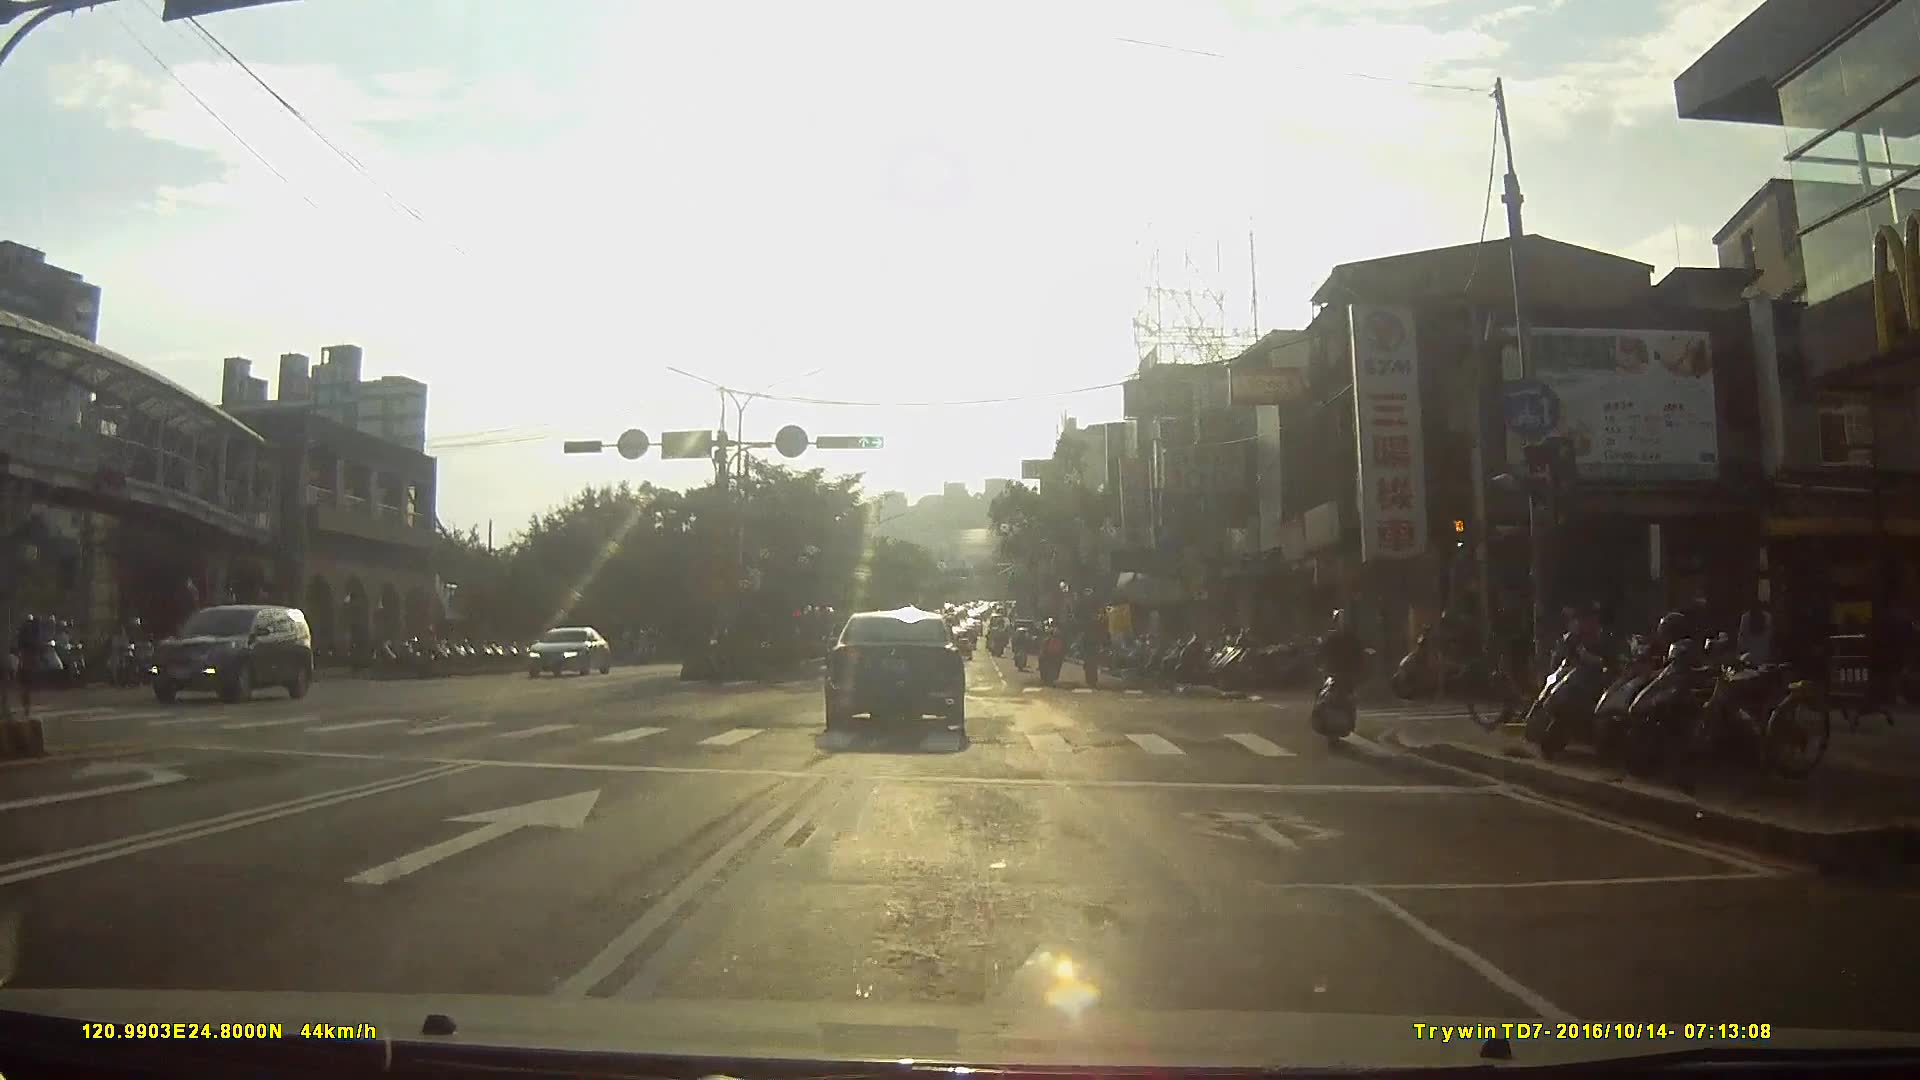pedestrian: (1737, 594, 1775, 701)
rider: (1460, 580, 1570, 732), (1311, 616, 1379, 752), (11, 614, 71, 692), (105, 616, 161, 692), (1038, 626, 1068, 689), (411, 622, 444, 679), (1010, 631, 1032, 677)
vehicle: (825, 609, 983, 749), (145, 604, 323, 710), (527, 631, 616, 682)
